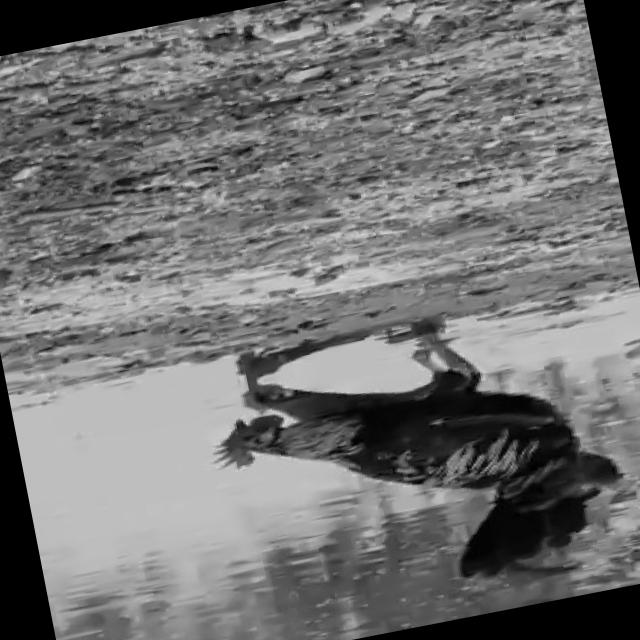drinking: (186, 265, 640, 636)
